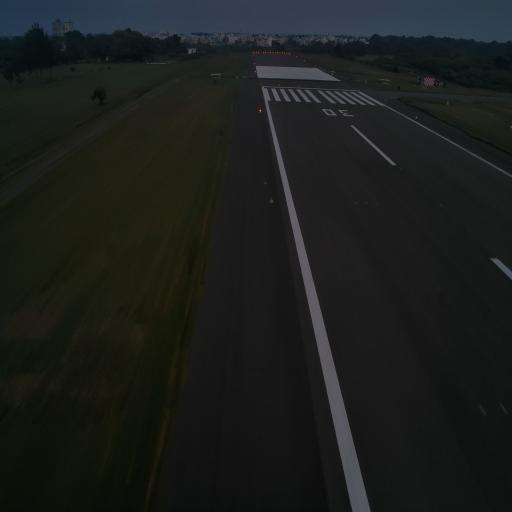off: (496, 394, 510, 420), (478, 400, 488, 423), (353, 198, 359, 206), (364, 197, 368, 207), (375, 198, 380, 206)
on: (269, 195, 274, 207), (438, 202, 444, 210), (398, 165, 403, 174)
